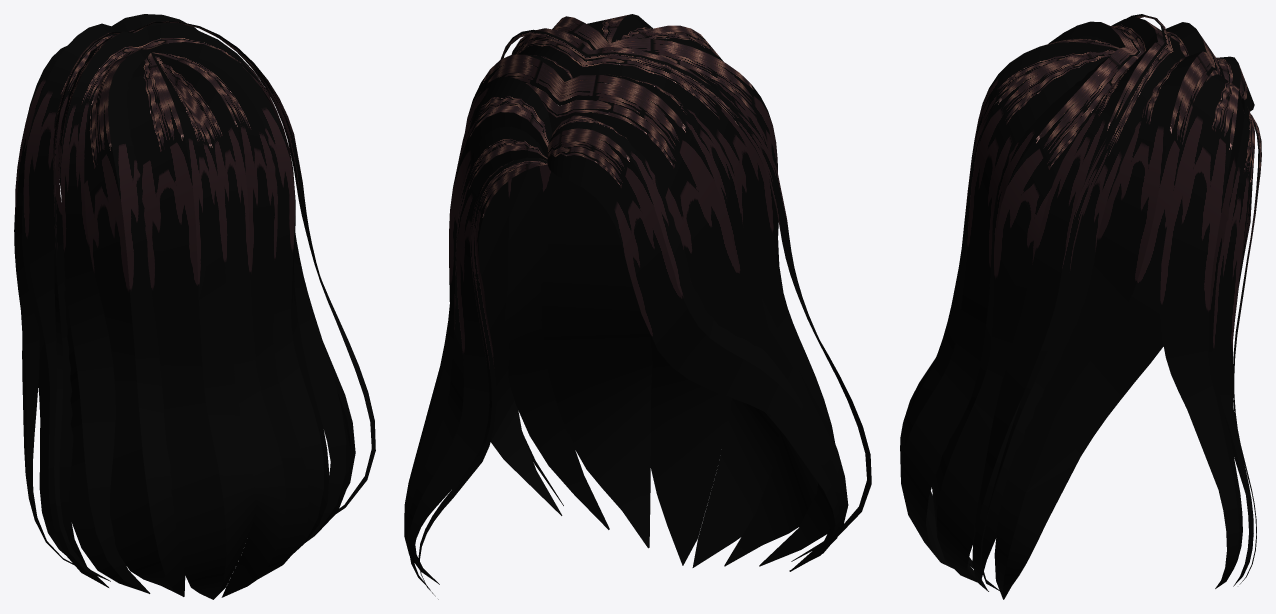
File: hair-01-fixed.fbx
3 views of the same model, side by side, from view 1: azimuth 30°, elevation 25°; view 2: azimuth 150°, elevation 25°; view 3: azimuth 270°, elevation 25° (orthographic). The views are drawn at different scales.
Visible parts, largest first — view 1: hair1; view 2: hair1; view 3: hair1.
Boxes of the visible parts, <box> form: hair1: <box>14,14,375,599</box>; hair1: <box>404,14,871,599</box>; hair1: <box>900,14,1261,599</box>.
Bounding box in the file's own units: 213 × 325 × 197.
